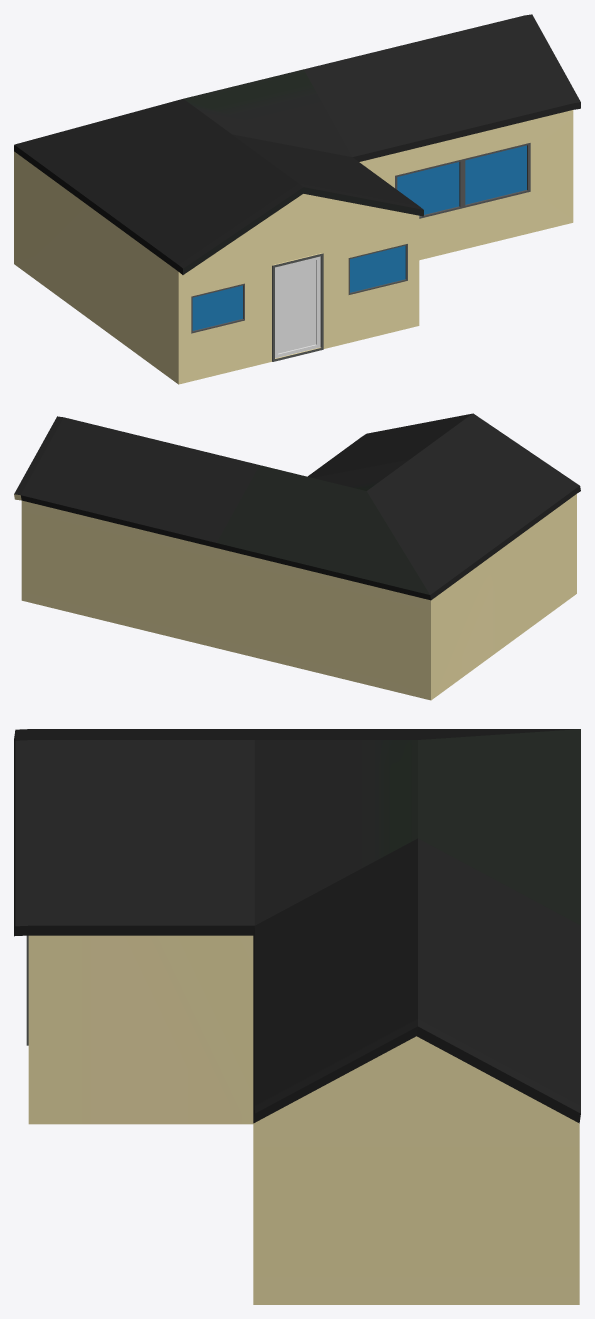
Rendered from House2.fbx.
3 renders of one model, top to bottom at view 1: azimuth 30°, elevation 25°; view 2: azimuth 150°, elevation 25°; view 3: azimuth 270°, elevation 25°, orthographic. The views are drawn at different scales.
Parts seen in each view (by area): view 1: House2; view 2: House2; view 3: House2.
Part boxes in pixels (x1,y1,x2,y2): House2: [14, 14, 580, 384]; House2: [14, 413, 580, 700]; House2: [14, 729, 580, 1304].
Size of the model in its own units: 1232 by 429 by 769.
